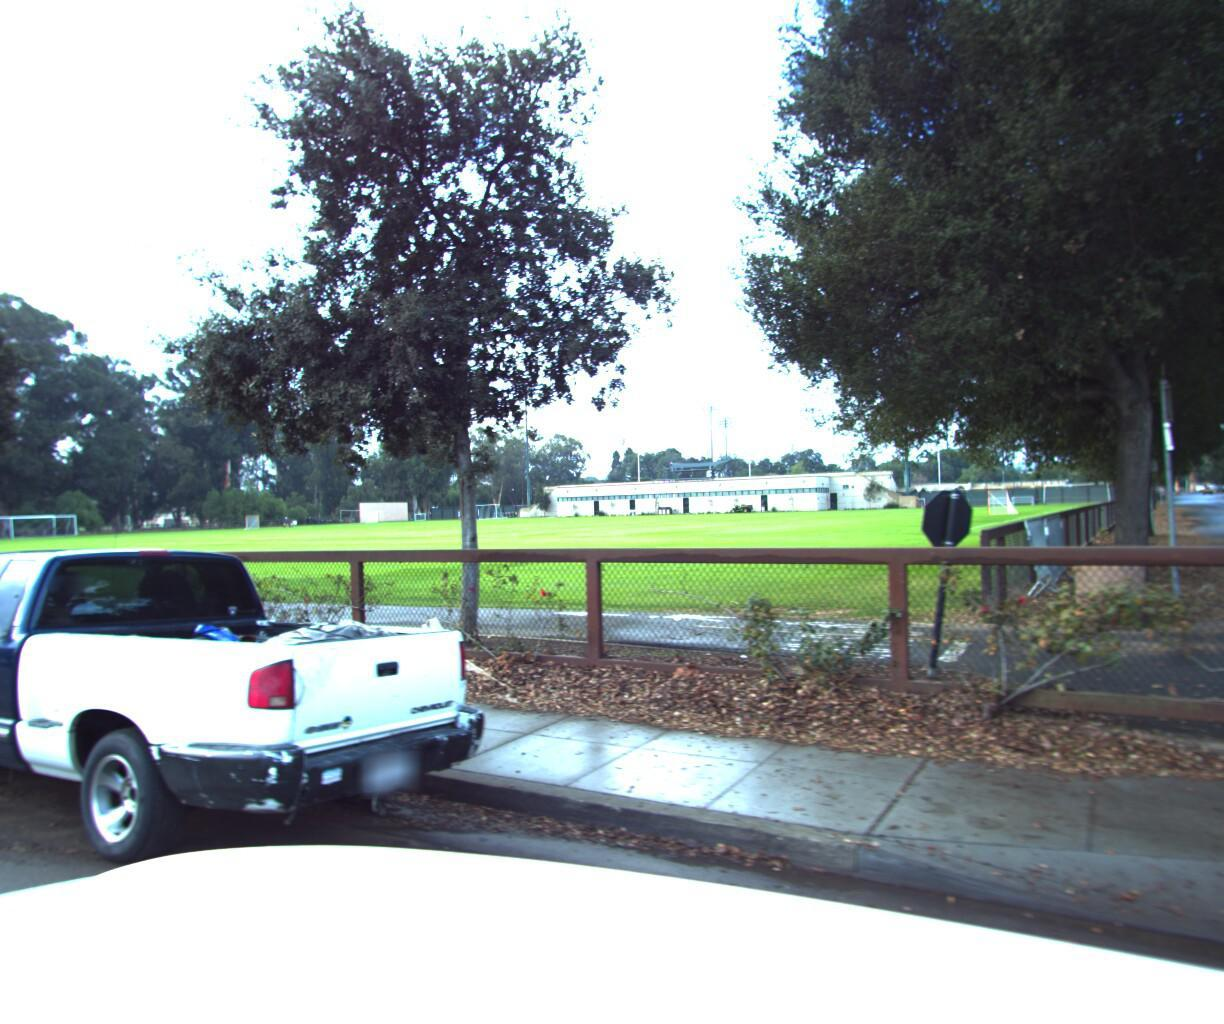car: (0, 530, 525, 958)
